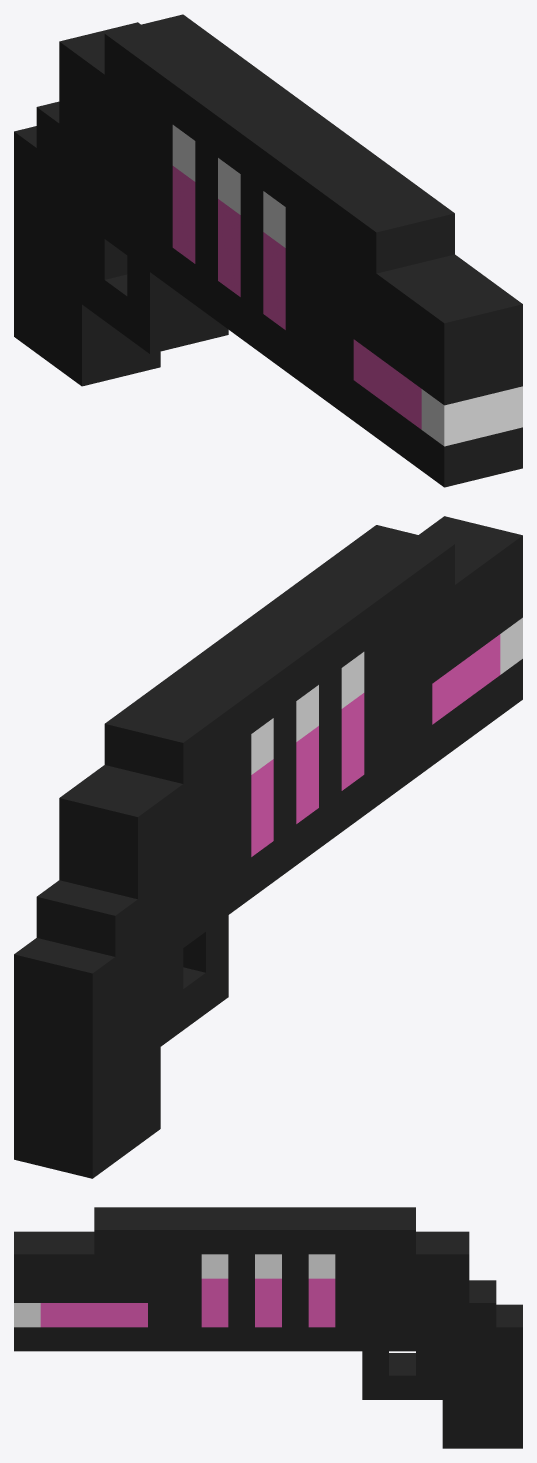
The model's file is gun.glb.
The picture shows the model from 3 angles, top to bottom: view 1: azimuth 30°, elevation 25°; view 2: azimuth 150°, elevation 25°; view 3: azimuth 270°, elevation 25°; orthographic projection. The views are drawn at different scales.
Visible parts, largest first — view 1: Untitled.001; view 2: Untitled.001; view 3: Untitled.001.
Boxes of the visible parts, <box> form: Untitled.001: <box>14,14,522,487</box>; Untitled.001: <box>14,516,522,1178</box>; Untitled.001: <box>14,1207,522,1448</box>.
Size of the model in its own units: 0.0625 by 0.2808 by 0.5928.
1 material, 1 textured.
